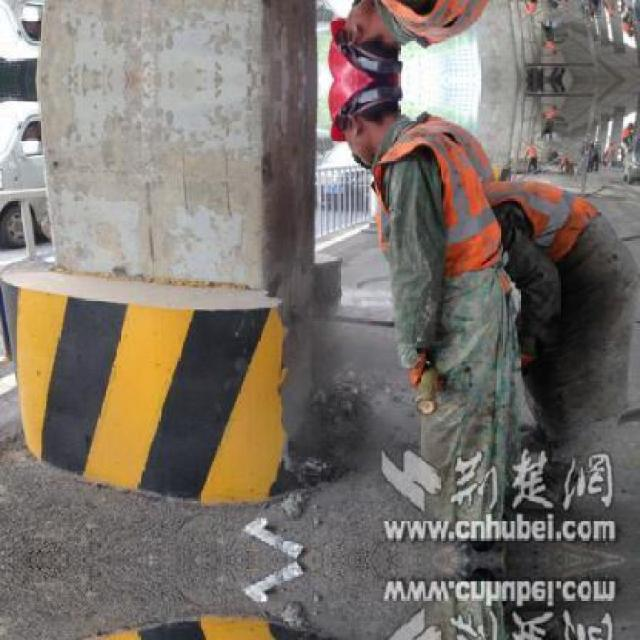helmet: (323, 74, 406, 146)
